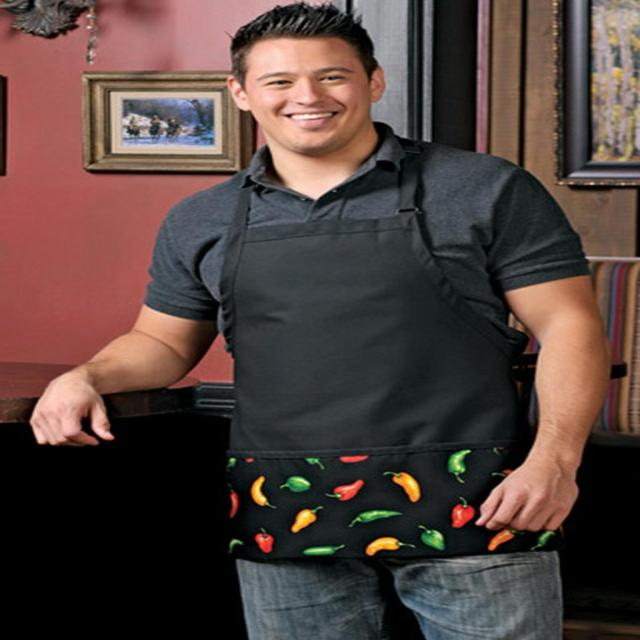Face: (245, 24, 369, 151)
